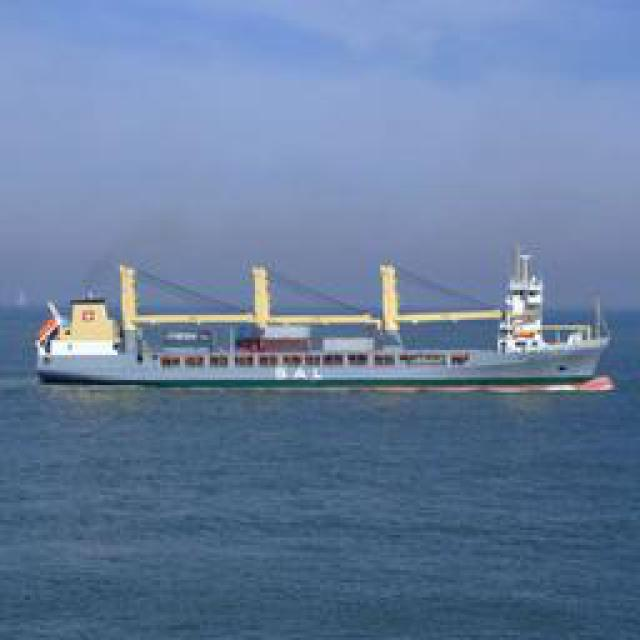Ship: (46, 251, 614, 391)
